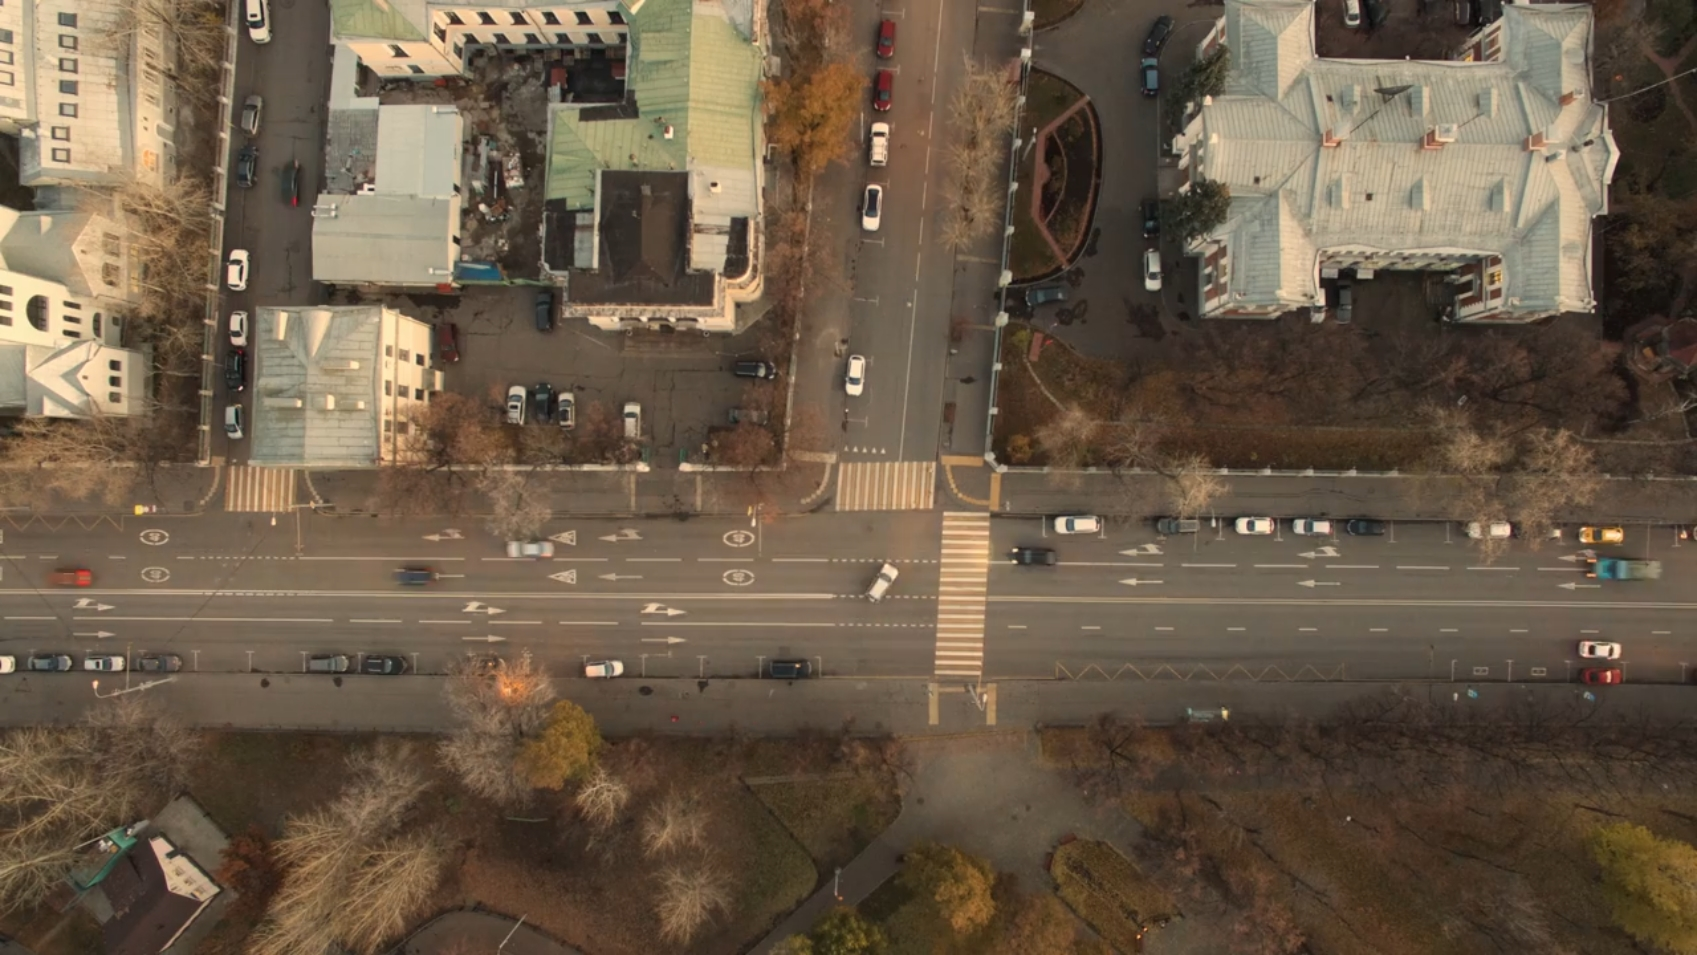car: (1586, 552, 1664, 584), (862, 559, 902, 608), (1138, 10, 1174, 54), (1009, 543, 1059, 570), (221, 246, 251, 292), (241, 1, 272, 44), (501, 538, 557, 561), (237, 93, 265, 140), (1578, 636, 1624, 663), (1138, 196, 1164, 243), (869, 68, 896, 114), (1233, 511, 1279, 538), (582, 656, 631, 681), (221, 350, 248, 393), (621, 399, 645, 448), (1464, 519, 1512, 542), (725, 403, 773, 427), (362, 653, 408, 677), (1140, 246, 1164, 292), (1577, 666, 1627, 688), (1575, 525, 1627, 546), (390, 564, 437, 588), (1052, 513, 1101, 535), (1019, 285, 1068, 307), (843, 351, 866, 396), (280, 161, 302, 209), (1155, 517, 1204, 538), (436, 323, 462, 363), (505, 381, 527, 427), (768, 656, 816, 677), (305, 652, 350, 674), (733, 358, 777, 380), (235, 146, 258, 190), (221, 403, 248, 440), (132, 654, 186, 672), (531, 381, 552, 426), (1138, 54, 1160, 96), (869, 120, 888, 169), (555, 389, 577, 430), (534, 292, 555, 333), (228, 309, 249, 351), (861, 183, 880, 230), (41, 569, 93, 585), (1345, 518, 1388, 538), (1336, 278, 1352, 326), (878, 17, 896, 59), (84, 655, 128, 673), (1519, 524, 1563, 541), (1293, 518, 1333, 536), (26, 655, 76, 670), (1310, 283, 1324, 324), (1342, 1, 1362, 28), (1, 656, 15, 673)
